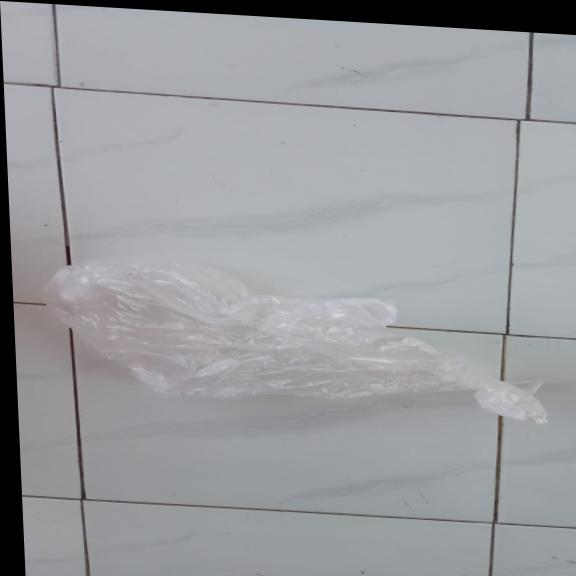Plastik: (41, 251, 551, 423)
